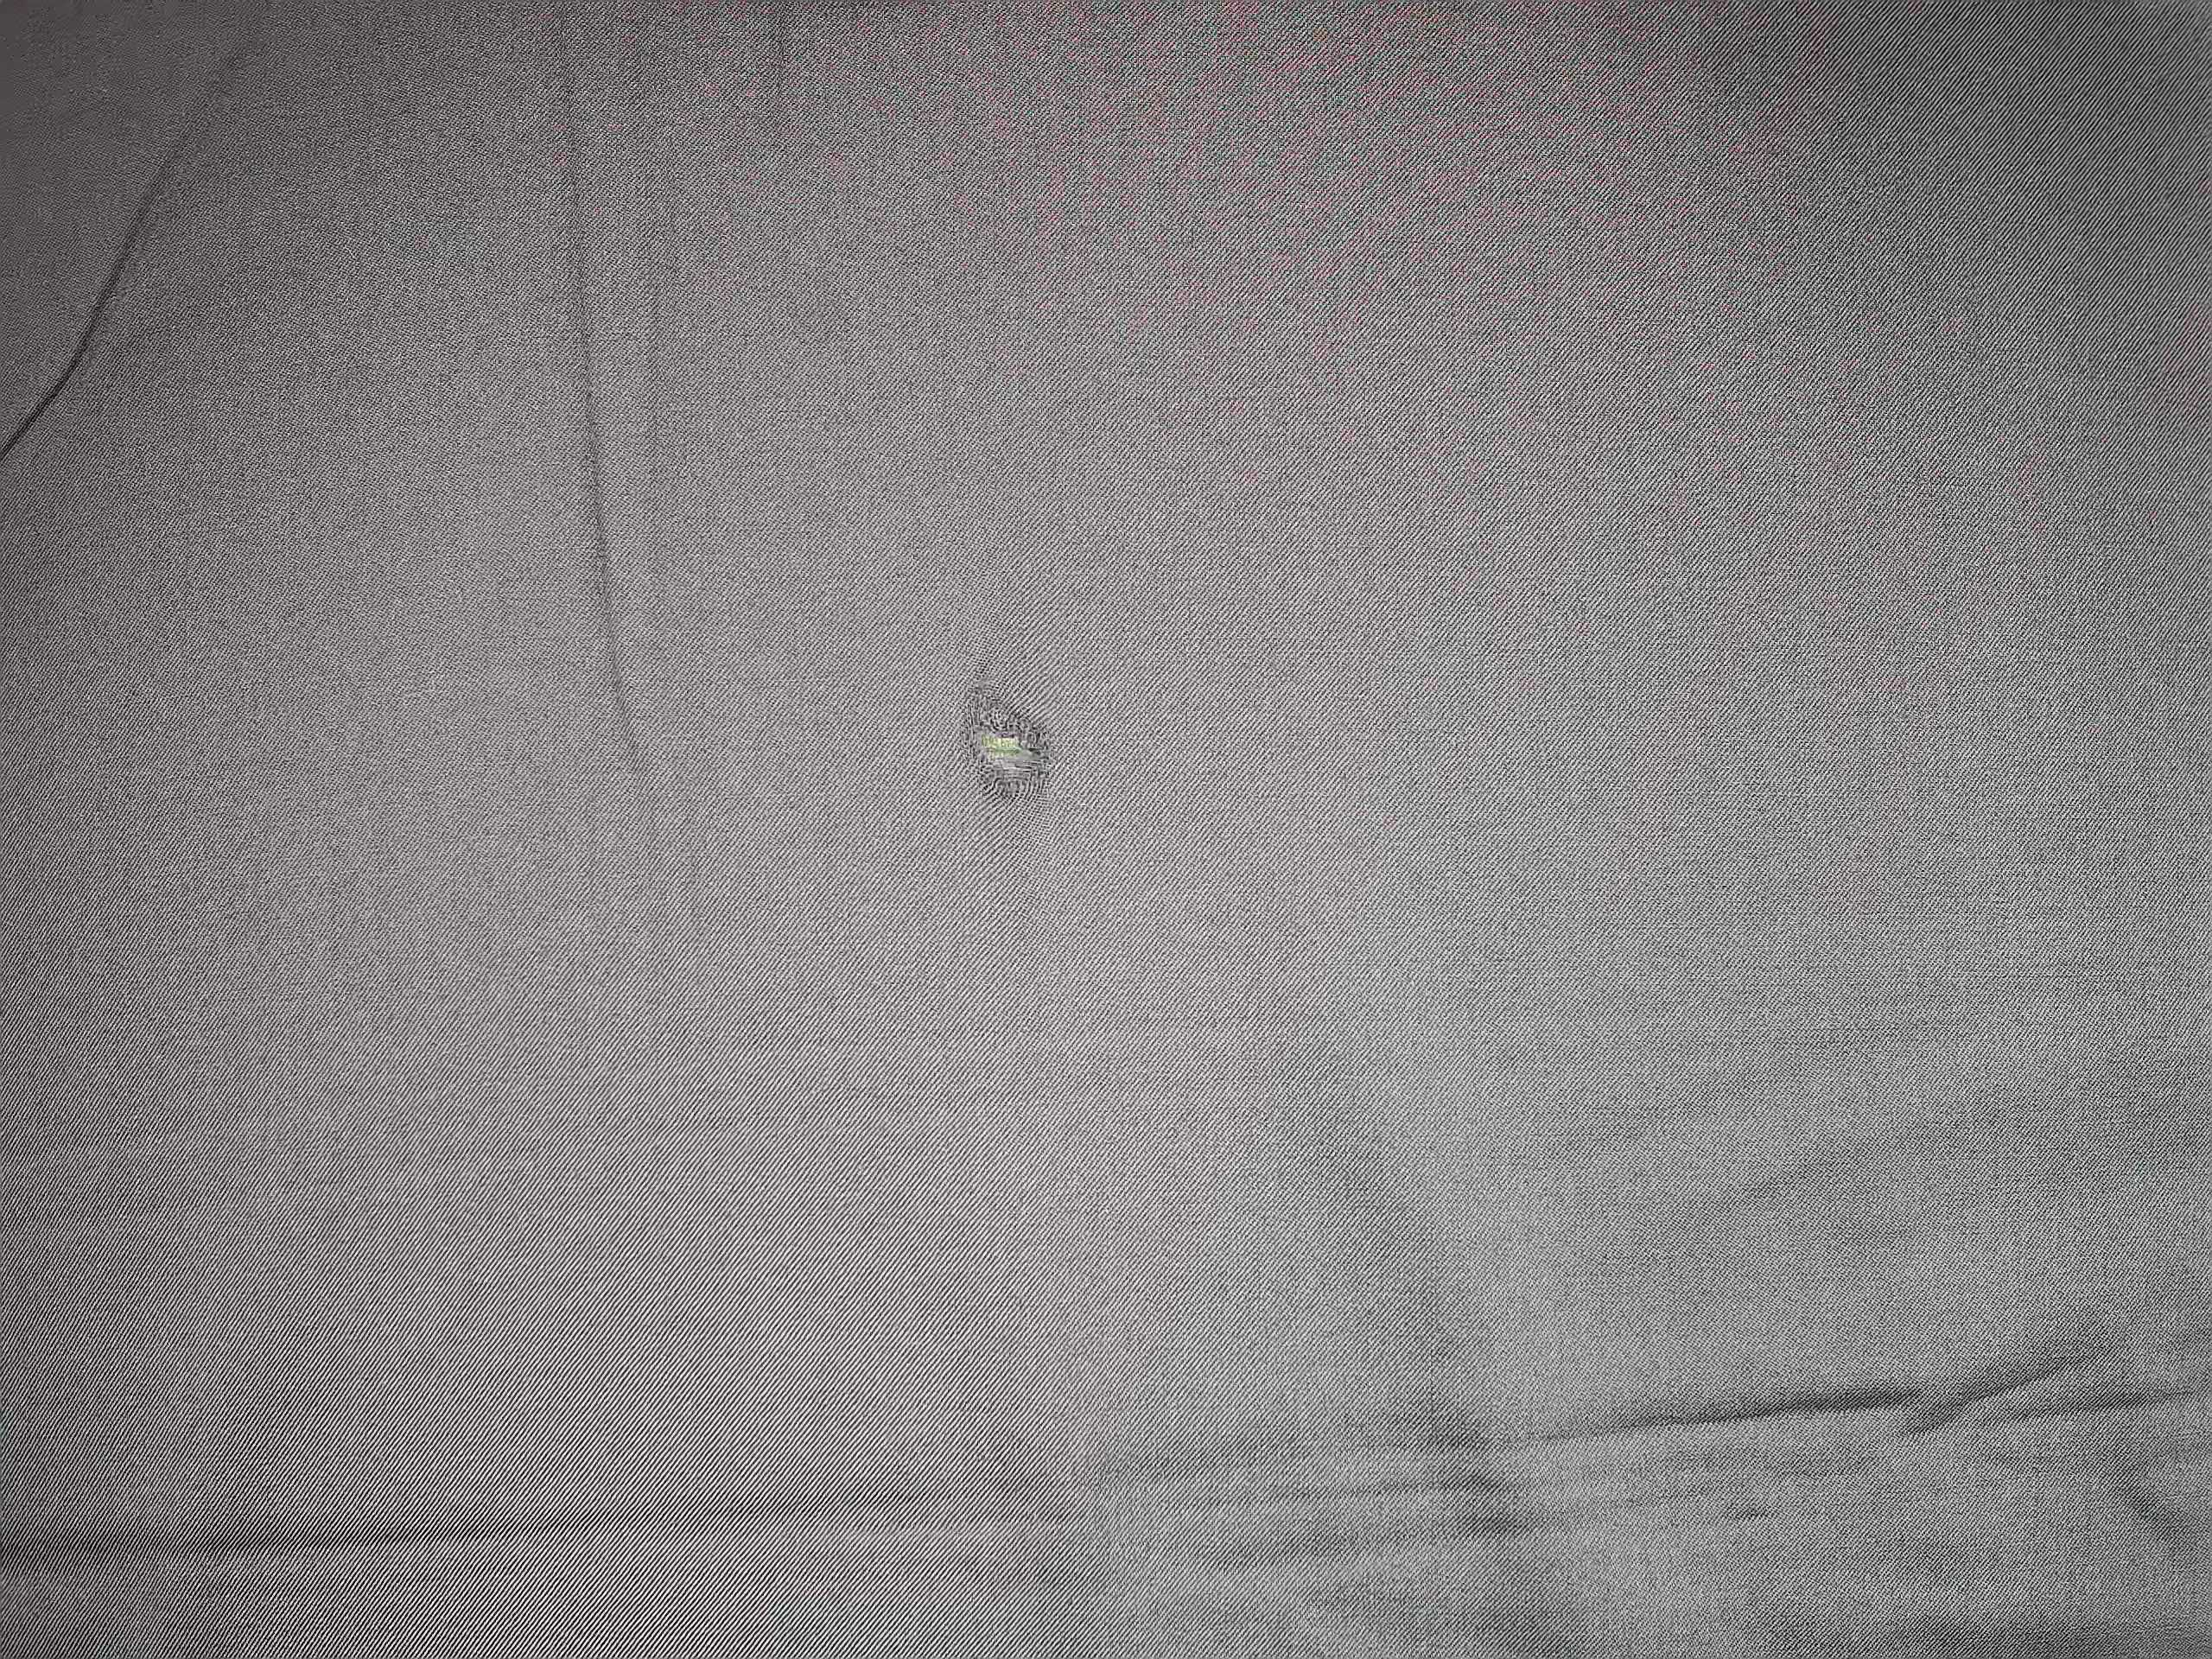brushed-hole: (941, 666, 1078, 826)
